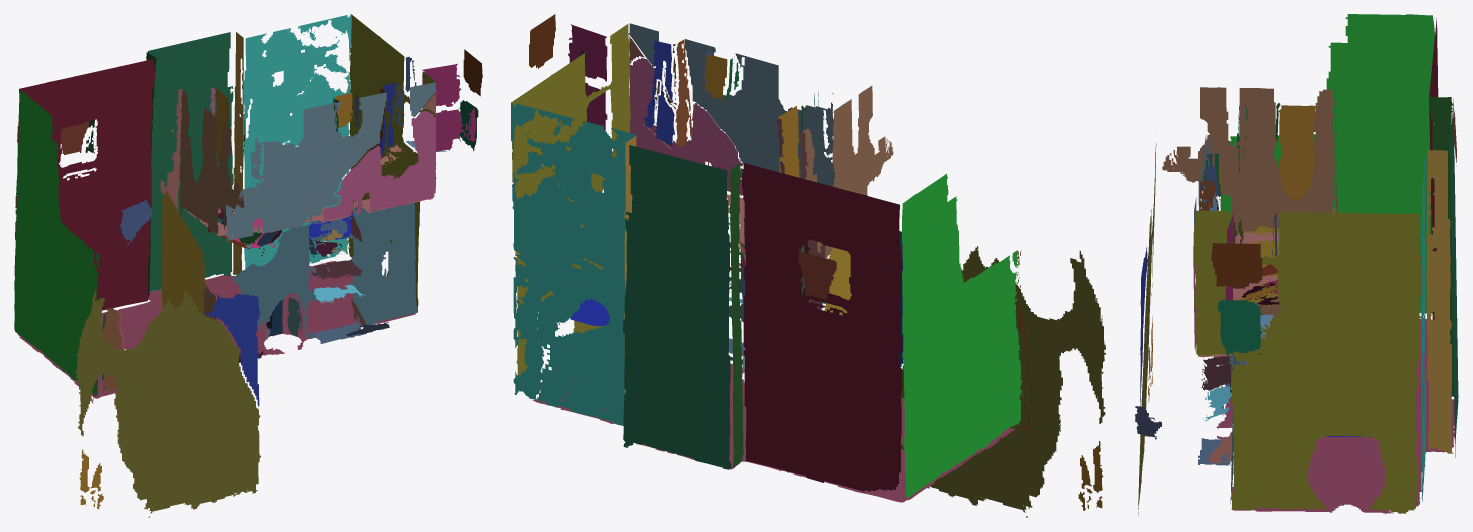
The model's file is NeuRIS-31a2c91c43.glb.
The picture shows the model from 3 angles, left to right: view 1: azimuth 30°, elevation 25°; view 2: azimuth 150°, elevation 25°; view 3: azimuth 270°, elevation 25°; orthographic projection. The views are drawn at different scales.
Parts seen in each view (by area): view 1: piecewise-NeuRIS-scene2008_00-lean; view 2: piecewise-NeuRIS-scene2008_00-lean; view 3: piecewise-NeuRIS-scene2008_00-lean.
Boxes of the visible parts, x1,y1,x2,y2 form: piecewise-NeuRIS-scene2008_00-lean: (14, 14, 482, 517); piecewise-NeuRIS-scene2008_00-lean: (511, 14, 1105, 517); piecewise-NeuRIS-scene2008_00-lean: (1135, 14, 1458, 515).
Size of the model in its own units: 3.33 by 2.57 by 1.74.
